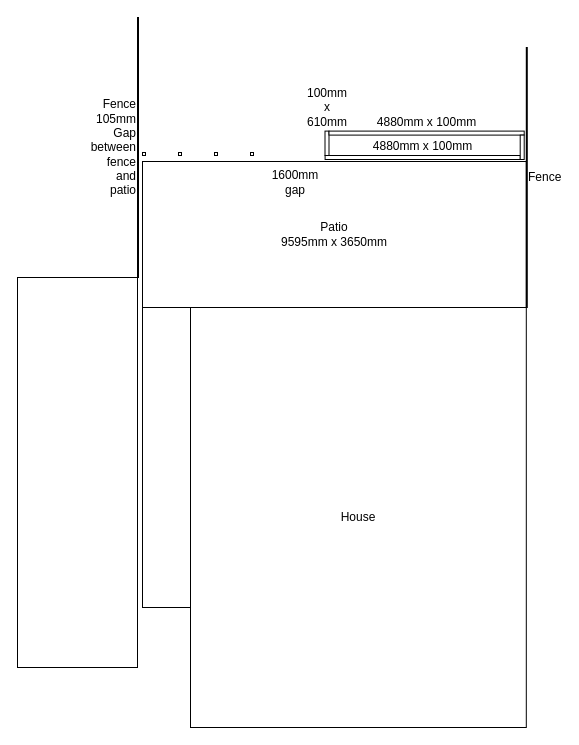
Some shapes in this 579 by 745 pixel diagram are drawn without their labels. The centre of each missing label's shape, as x and y in pixels:
"Nigels House" belongs at pixel 77 472.
"Path" belongs at pixel 166 457.
